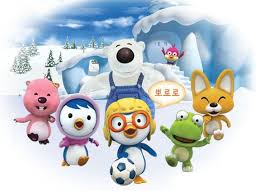Harry: (159, 42, 187, 70)
Loopy: (13, 73, 60, 145)
Petty: (56, 94, 101, 168)
Pororo: (102, 97, 159, 188)
